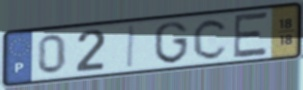0: (36, 32, 69, 76)
2: (75, 28, 109, 75)
C: (191, 17, 231, 61)
E: (231, 10, 270, 60)
G: (152, 20, 191, 66)
I: (125, 23, 138, 71)
